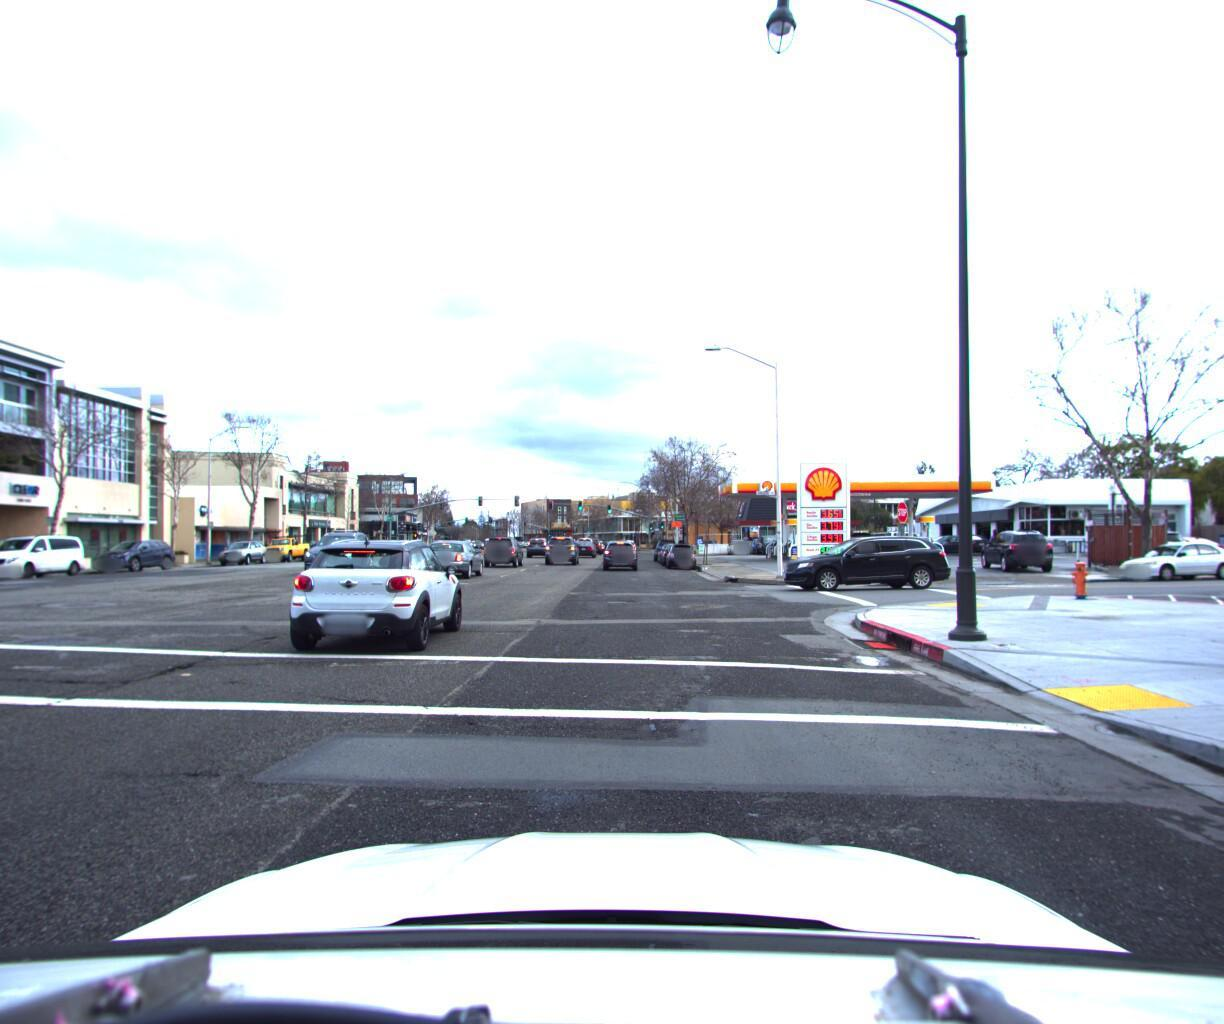car: (281, 531, 472, 658), (772, 527, 954, 586), (1102, 533, 1224, 577), (973, 520, 1061, 566), (299, 523, 377, 574), (86, 533, 183, 571), (416, 535, 488, 577), (215, 534, 276, 562), (259, 529, 313, 558), (831, 523, 881, 551), (874, 521, 931, 546), (481, 529, 523, 562), (938, 526, 993, 551), (601, 537, 637, 573), (544, 532, 578, 562), (663, 535, 697, 563), (657, 536, 691, 561), (1208, 534, 1224, 574), (528, 528, 554, 550), (723, 532, 748, 550), (577, 535, 599, 553)
